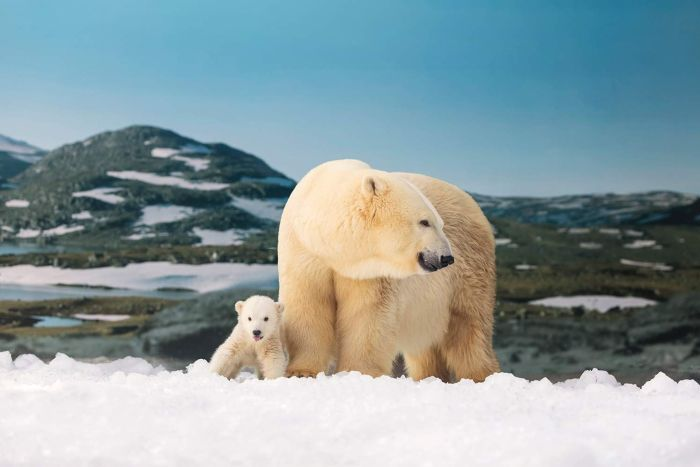Polar Bear: (301, 149, 505, 386), (202, 273, 297, 380)
